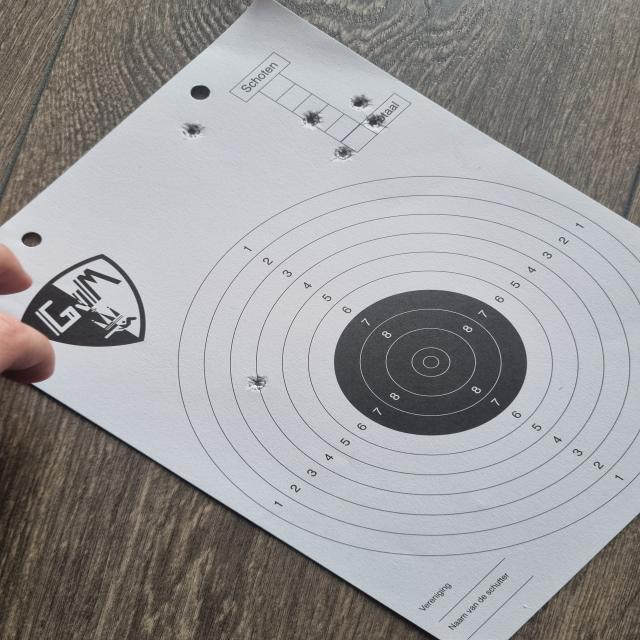0: (179, 123, 206, 139), (330, 146, 355, 162), (365, 113, 389, 129), (300, 111, 324, 126), (350, 95, 374, 110)
4: (246, 376, 266, 390)
Target: (178, 173, 640, 557)
black_contour: (333, 292, 528, 434)
